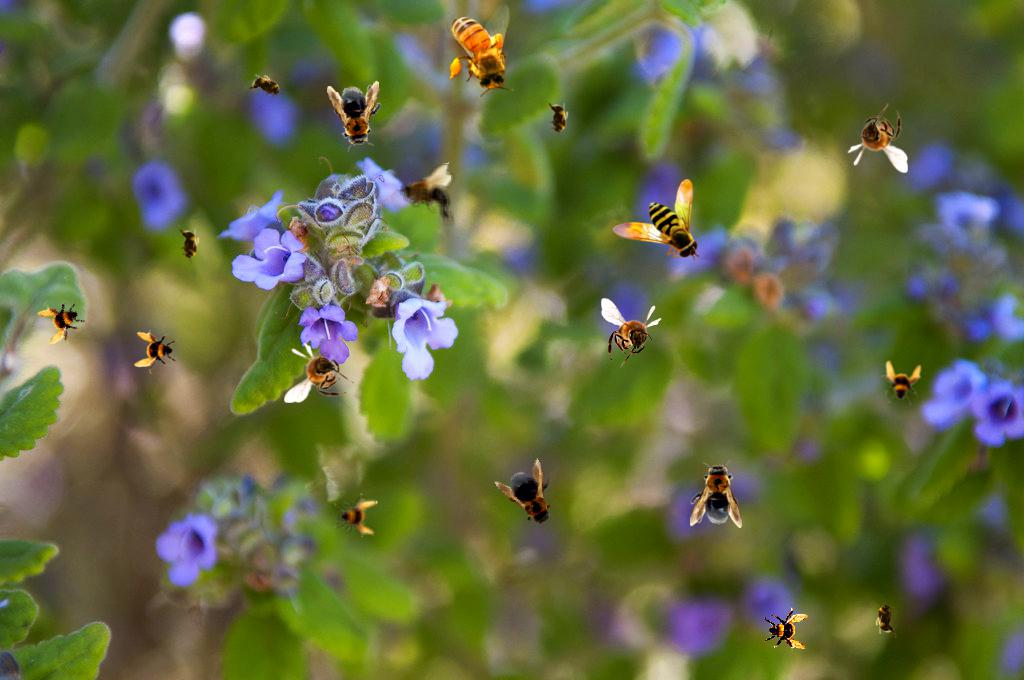Bee: (612, 179, 700, 261), (492, 454, 572, 540), (446, 4, 514, 97), (326, 78, 388, 154), (601, 298, 662, 368), (284, 342, 354, 403), (847, 103, 908, 173), (398, 162, 457, 228), (33, 292, 93, 352), (690, 460, 742, 528), (876, 359, 924, 407), (334, 493, 378, 537), (764, 607, 808, 651), (134, 330, 178, 374), (244, 68, 290, 106), (547, 99, 569, 139), (178, 225, 200, 265), (875, 598, 897, 638)
